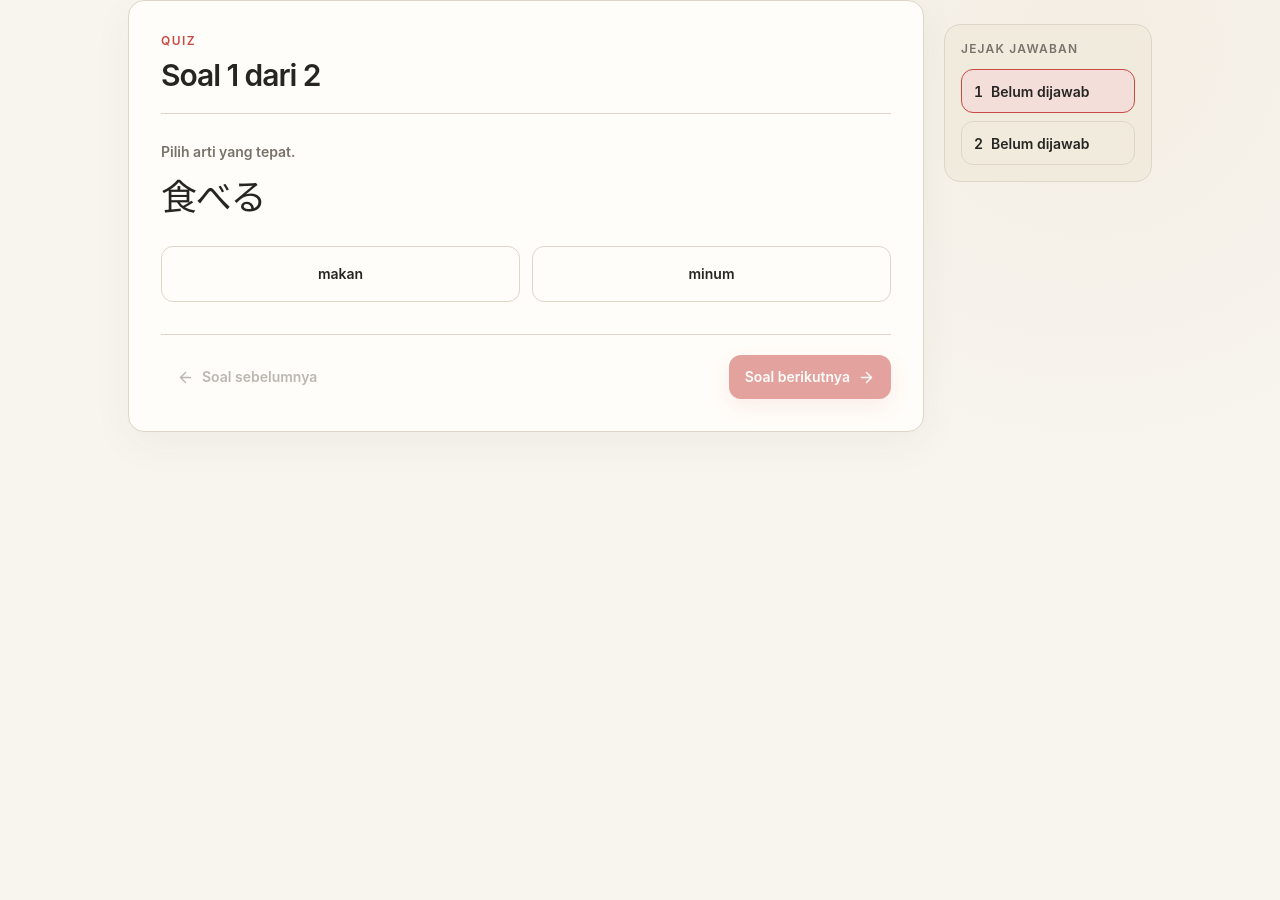
Scenario: QuizSession › shows a derived result and ordered per-question review with localized answers
The image size is (1280, 900).
What coordinates should you click on to do the following:
click the button "makan"
I would click on:
 (340, 274)
Its box is [161, 246, 520, 302].
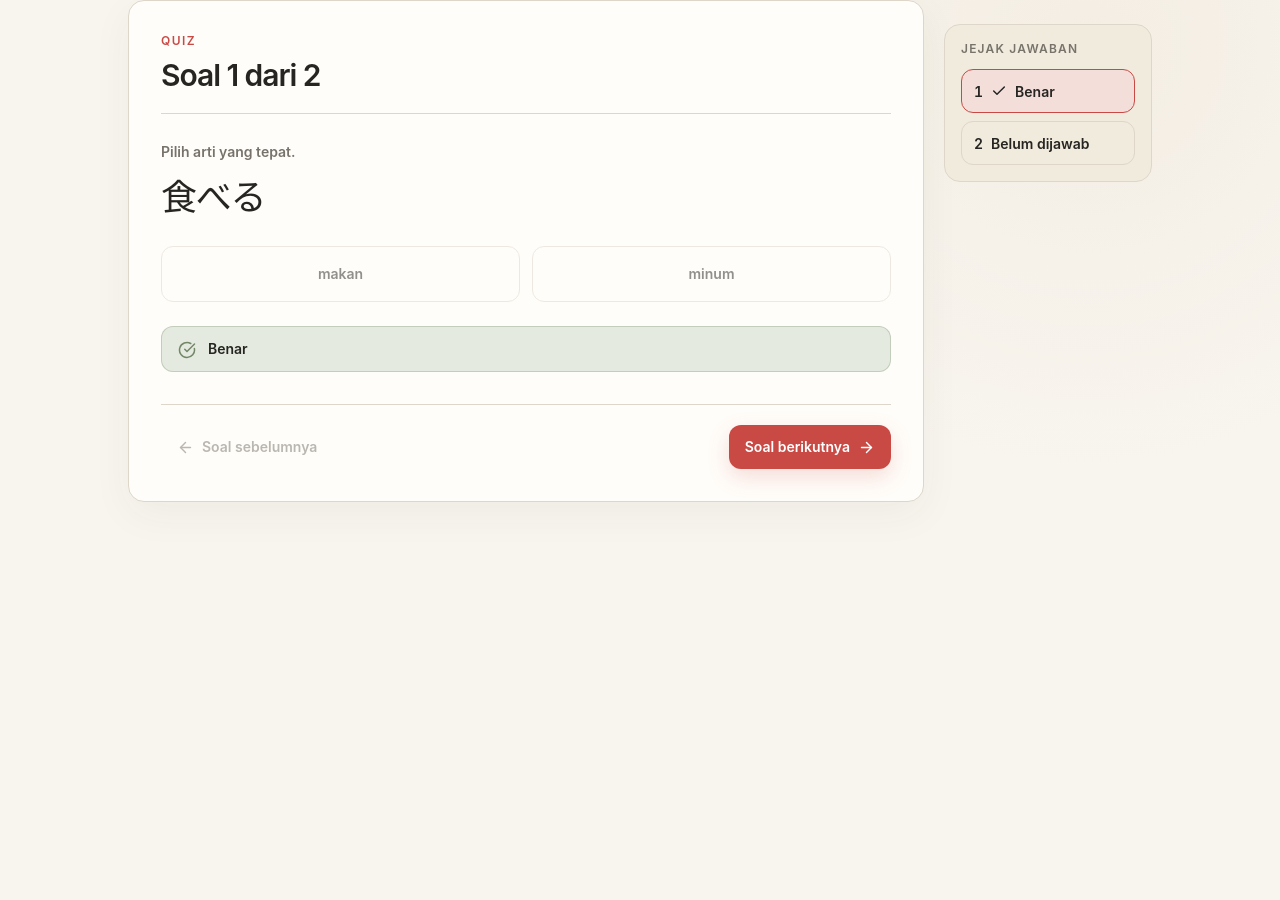
What coordinates should you click on to do the following:
click the button "Soal berikutnya"
I would click on:
 (810, 447)
Its box is [729, 425, 891, 469].
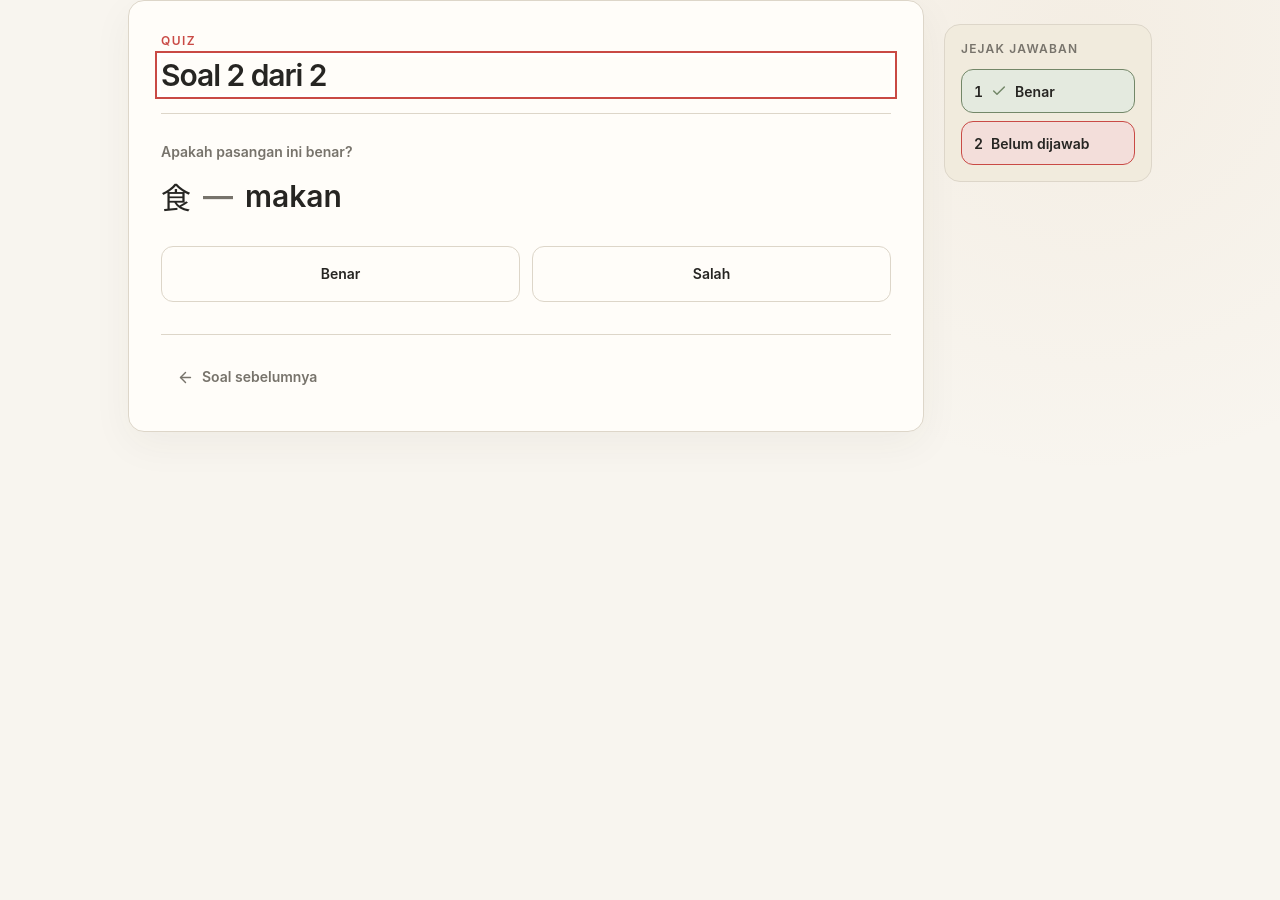
What coordinates should you click on to do the following:
click the button "Salah"
I would click on:
 (712, 274)
Its box is [532, 246, 891, 302].
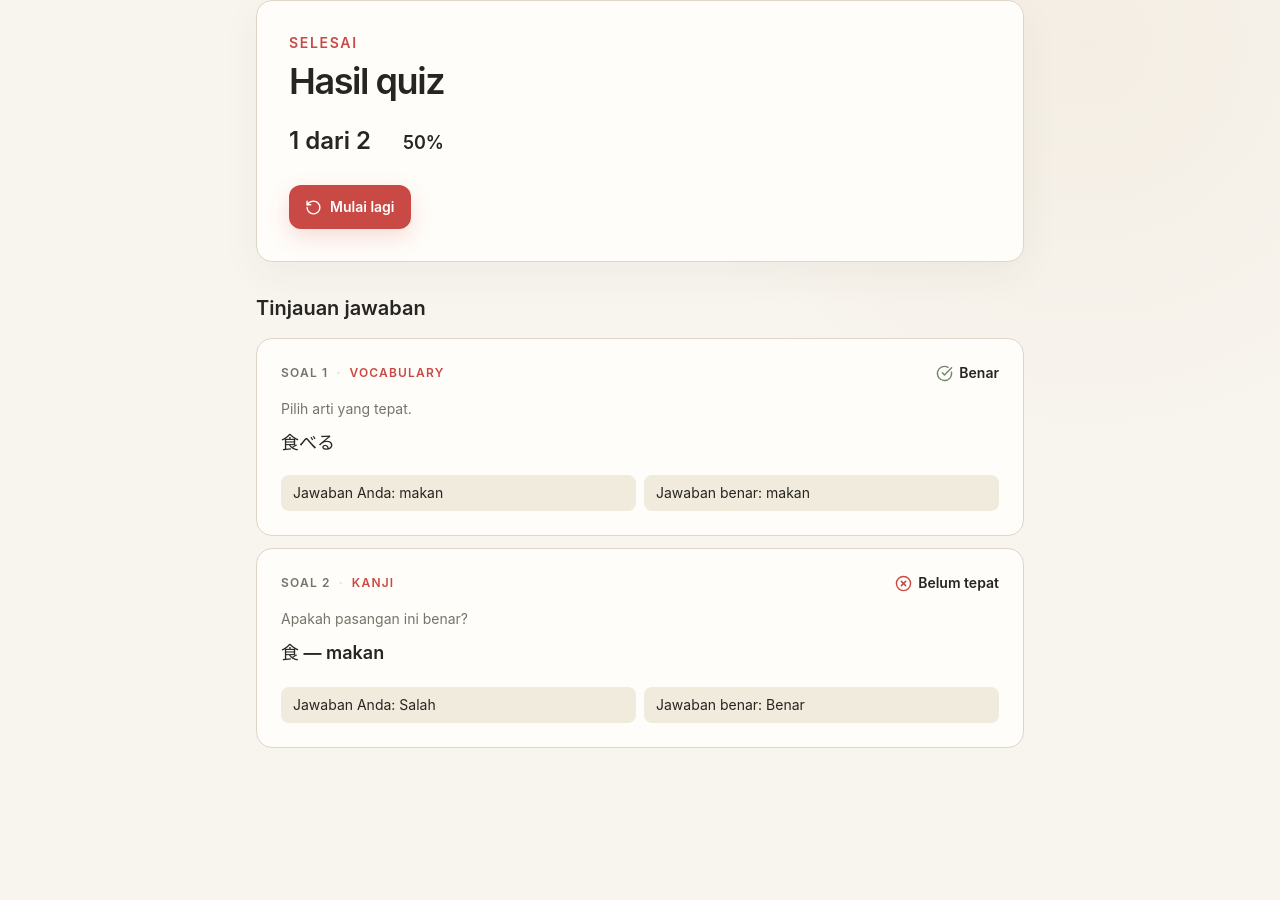
Check: the heading "Hasil quiz" is shown, box [289, 59, 444, 103]
Check: the text "1 dari 2" is shown, box [289, 125, 371, 157]
Check: the number of list items is 2, box [256, 338, 1024, 536]; [256, 548, 1024, 748]
